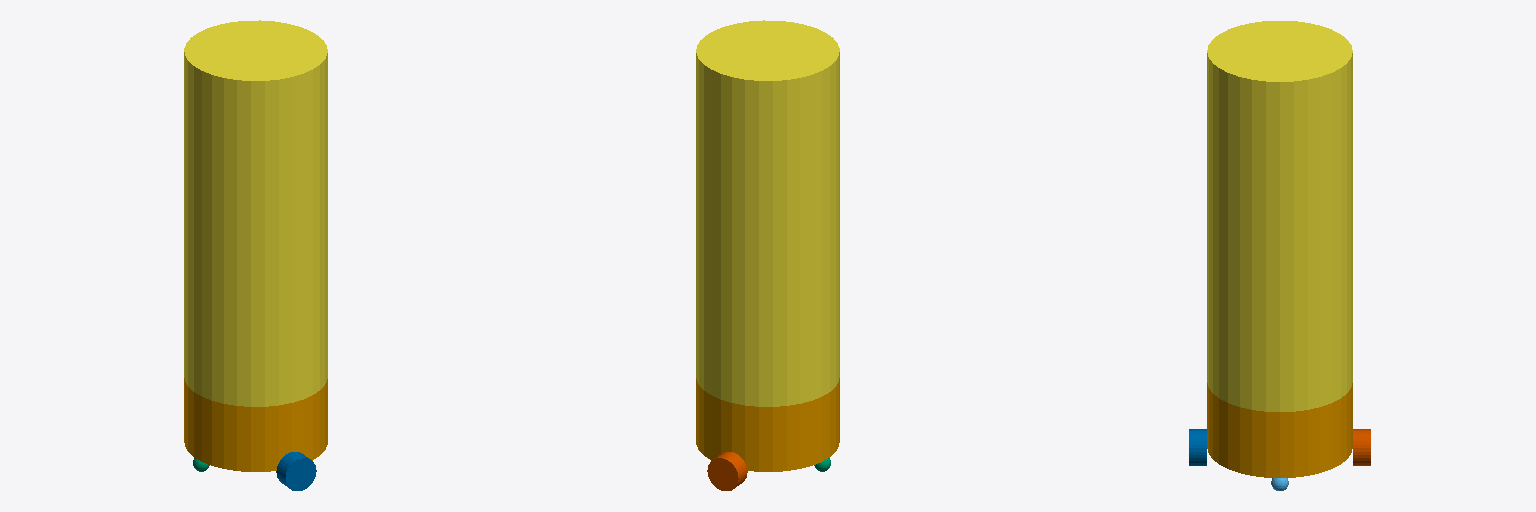
The robot description file, URDF, robot "intel_robot":
<?xml version="1.0" ?>
<!-- =================================================================================== -->
<!-- |    This document was autogenerated by xacro from intel_robot.urdf.xacro         | -->
<!-- |    EDITING THIS FILE BY HAND IS NOT RECOMMENDED                                 | -->
<!-- =================================================================================== -->
<robot name="intel_robot" xmlns:xacro="http://ros.org/wiki/xacro">
  <link name="base_link">
    <visual>
      <geometry>
        <cylinder length="0.1" radius="0.1"/>
      </geometry>
      <origin xyz="0 0 0"/>
    </visual>
    <collision>
      <origin xyz="0 0 0.0"/>
      <geometry>
        <cylinder length="0.1" radius="0.1"/>
      </geometry>
    </collision>
    <!--xacro:caster suffix="front" reflect="1"/>
  <xacro:caster suffix="back" reflect="-1"/-->
  </link>
  <gazebo reference="base_link">
    <gravity>true</gravity>
    <material>Gazebo/Blue</material>
    <sensor name="imu_sensor" type="imu">
      <always_on>true</always_on>
      <update_rate>100</update_rate>
      <visualize>true</visualize>
      <topic>__default_topic__</topic>
      <plugin filename="libgazebo_ros_imu_sensor.so" name="imu_plugin">
        <topicName>imu</topicName>
        <bodyName>imu_link</bodyName>
        <updateRateHZ>10.0</updateRateHZ>
        <gaussianNoise>0.0</gaussianNoise>
        <xyzOffset>0 0 0</xyzOffset>
        <rpyOffset>0 0 0</rpyOffset>
        <frameName>imu_link</frameName>
      </plugin>
      <pose>0 0 0 0 0 0</pose>
    </sensor>
  </gazebo>
  <link name="front_caster_link">
    <visual>
      <geometry>
        <sphere radius="0.012"/>
      </geometry>
      <origin rpy="0 0 0" xyz="0.0875 0 -0.0625"/>
      <material name="black"/>
    </visual>
    <!--surface>
            <friction>
              <ode>
                <mu>0</mu>
                <mu2>0</mu2>
                <slip1>1.0</slip1>
                <slip2>1.0</slip2>
              </ode>
            </friction>
          </surface-->
    <collision>
      <origin rpy="0  0  0" xyz="0.0875 0 -0.0625"/>
      <geometry>
        <sphere radius="0.012"/>
      </geometry>
    </collision>
    <inertial>
      <mass value="0.2"/>
      <inertia ixx="1.152e-05" ixy="0.0" ixz="0.0" iyy="1.152e-05" iyz="0.0" izz="1.152e-05"/>
    </inertial>
  </link>
  <joint name="casterf_to_base" type="fixed">
    <axis xyz="1 1 1"/>
    <parent link="base_link"/>
    <child link="front_caster_link"/>
    <origin xyz="0 0 0"/>
  </joint>
  <link name="back_caster_link">
    <visual>
      <geometry>
        <sphere radius="0.012"/>
      </geometry>
      <origin rpy="0 0 0" xyz="-0.0875 0 -0.0625"/>
      <material name="black"/>
    </visual>
    <!--surface>
            <friction>
              <ode>
                <mu>0</mu>
                <mu2>0</mu2>
                <slip1>1.0</slip1>
                <slip2>1.0</slip2>
              </ode>
            </friction>
          </surface-->
    <collision>
      <origin rpy="0  0  0" xyz="-0.0875 0 -0.0625"/>
      <geometry>
        <sphere radius="0.012"/>
      </geometry>
    </collision>
    <inertial>
      <mass value="0.2"/>
      <inertia ixx="1.152e-05" ixy="0.0" ixz="0.0" iyy="1.152e-05" iyz="0.0" izz="1.152e-05"/>
    </inertial>
  </link>
  <gazebo reference="front_caster_link">
    <mu1 value="0.0"/>
    <mu2 value="0.0"/>
    <kp value="10000000.0"/>
    <kd value="1.0"/>
    <material>Gazebo/Black</material>
  </gazebo>
  <transmission name="front_caster_wheel_trans">
    <type>transmission_interface/SimpleTransmission</type>
    <actuator name="front_caster_wheel_motor">
      <hardwareInterface>EffortJointInterface</hardwareInterface>
      <mechanicalReduction>1</mechanicalReduction>
    </actuator>
    <joint name="casterf_to_base">
      <hardwareInterface>VelocityJointInterface</hardwareInterface>
    </joint>
  </transmission>
  <joint name="casterb_to_base" type="fixed">
    <axis xyz="1 1 1"/>
    <parent link="base_link"/>
    <child link="back_caster_link"/>
    <origin xyz="0 0 0"/>
  </joint>
  <gazebo reference="back_caster_link">
    <mu1 value="0.0"/>
    <mu2 value="0.0"/>
    <kp value="10000000.0"/>
    <kd value="1.0"/>
    <material>Gazebo/Black</material>
  </gazebo>
  <transmission name="back_caster_wheel_trans">
    <type>transmission_interface/SimpleTransmission</type>
    <actuator name="back_caster_wheel_motor">
      <hardwareInterface>EffortJointInterface</hardwareInterface>
      <mechanicalReduction>1</mechanicalReduction>
    </actuator>
    <joint name="casterb_to_base">
      <hardwareInterface>VelocityJointInterface</hardwareInterface>
    </joint>
  </transmission>
  <link name="top_link">
    <visual>
      <geometry>
        <cylinder length="0.5" radius="0.1"/>
      </geometry>
      <origin xyz="0 0 0.25"/>
    </visual>
    <collision>
      <origin rpy="0 0 0" xyz="0 0 0.25"/>
      <geometry>
        <cylinder length="0.5" radius="0.1"/>
      </geometry>
    </collision>
    <inertial>
      <mass value="8"/>
      <inertia ixx="0.186666666667" ixy="0.0" ixz="0.0" iyy="0.186666666667" iyz="0.0" izz="0.04"/>
    </inertial>
  </link>
  <gazebo reference="top_link">
    <gravity value="True"/>
    <material>Gazebo/Red</material>
  </gazebo>
  <joint name="base_to_top" type="fixed">
    <parent link="base_link"/>
    <child link="top_link"/>
    <origin xyz="0 0 0.05"/>
  </joint>
  <link name="scooter_right_wheel">
    <visual>
      <origin rpy="1.57 0 0" xyz="0 0 0"/>
      <geometry>
        <cylinder length="0.025" radius="0.025"/>
      </geometry>
      <material name="black"/>
    </visual>
    <collision>
      <origin rpy="1.57 0 0" xyz="0 0 0"/>
      <geometry>
        <cylinder length="0.025" radius="0.025"/>
      </geometry>
    </collision>
    <inertial>
      <mass value="0.2"/>
      <inertia ixx="1.38888888889e-05" ixy="0.0" ixz="0.0" iyy="1.38888888889e-05" iyz="0.0" izz="6.94444444444e-06"/>
    </inertial>
  </link>
  <joint name="scooter_right_wheel_joint" type="continuous">
    <axis rpy="0 0 0" xyz="0 1 0"/>
    <parent link="base_link"/>
    <child link="scooter_right_wheel"/>
    <origin rpy="0 0 0" xyz="0 -0.1126 -0.05"/>
    <dynamics damping="0.20" friction="0.90"/>
    <limit effort="1000000" velocity="1000000"/>
  </joint>
  <gazebo reference="scooter_right_wheel">
    <mu1 value="1.0"/>
    <mu2 value="1.0"/>
    <kp value="10000000.0"/>
    <kd value="1.0"/>
    <material>Gazebo/Black</material>
  </gazebo>
  <transmission name="scooter_right_wheel_trans">
    <type>transmission_interface/SimpleTransmission</type>
    <actuator name="scooter_right_wheel_motor">
      <hardwareInterface>EffortJointInterface</hardwareInterface>
      <mechanicalReduction>1</mechanicalReduction>
    </actuator>
    <joint name="scooter_right_wheel_joint">
      <hardwareInterface>VelocityJointInterface</hardwareInterface>
    </joint>
  </transmission>
  <link name="scooter_left_wheel">
    <visual>
      <origin rpy="1.57 0 0" xyz="0 0 0"/>
      <geometry>
        <cylinder length="0.025" radius="0.025"/>
      </geometry>
      <material name="black"/>
    </visual>
    <collision>
      <origin rpy="1.57 0 0" xyz="0 0 0"/>
      <geometry>
        <cylinder length="0.025" radius="0.025"/>
      </geometry>
    </collision>
    <inertial>
      <mass value="0.2"/>
      <inertia ixx="1.38888888889e-05" ixy="0.0" ixz="0.0" iyy="1.38888888889e-05" iyz="0.0" izz="6.94444444444e-06"/>
    </inertial>
  </link>
  <joint name="scooter_left_wheel_joint" type="continuous">
    <axis rpy="0 0 0" xyz="0 1 0"/>
    <parent link="base_link"/>
    <child link="scooter_left_wheel"/>
    <origin rpy="0 0 0" xyz="0 0.1126 -0.05"/>
    <dynamics damping="0.20" friction="0.90"/>
    <limit effort="1000000" velocity="1000000"/>
  </joint>
  <gazebo reference="scooter_left_wheel">
    <mu1 value="1.0"/>
    <mu2 value="1.0"/>
    <kp value="10000000.0"/>
    <kd value="1.0"/>
    <material>Gazebo/Black</material>
  </gazebo>
  <transmission name="scooter_left_wheel_trans">
    <type>transmission_interface/SimpleTransmission</type>
    <actuator name="scooter_left_wheel_motor">
      <hardwareInterface>EffortJointInterface</hardwareInterface>
      <mechanicalReduction>1</mechanicalReduction>
    </actuator>
    <joint name="scooter_left_wheel_joint">
      <hardwareInterface>VelocityJointInterface</hardwareInterface>
    </joint>
  </transmission>
  <gazebo>
    <plugin filename="libgazebo_ros_control.so" name="gazebo_ros_control">
      <robotNamespace>/</robotNamespace>
    </plugin>
  </gazebo>
</robot>

--- Facts derived from the render (not from the file) ---
3 views of the same robot in one strip: view 1: azimuth 30°, elevation 25°; view 2: azimuth 150°, elevation 25°; view 3: azimuth 270°, elevation 25° (orthographic).
Model intel_robot with 6 links and 5 joints (2 continuous, 3 fixed), rooted at base_link, posed every joint at zero.
Links seen in each view (by area): view 1: top_link, base_link, scooter_right_wheel; view 2: top_link, base_link, scooter_left_wheel; view 3: top_link, base_link, scooter_right_wheel, scooter_left_wheel.
Boxes of the visible links, box(x1,y1,x2,y2) form: top_link: box(184, 20, 327, 406); base_link: box(184, 378, 327, 471); scooter_right_wheel: box(276, 452, 316, 490); top_link: box(696, 20, 839, 406); base_link: box(696, 378, 839, 471); scooter_left_wheel: box(707, 452, 747, 490); top_link: box(1207, 21, 1352, 411); base_link: box(1207, 383, 1352, 477); scooter_right_wheel: box(1189, 429, 1206, 465); scooter_left_wheel: box(1353, 429, 1370, 465).
Bounding box of the posed robot: 0.2 × 0.2502 × 0.625 m (x, y, z).
Geometry: primitives only (box / cylinder / sphere), no mesh files.